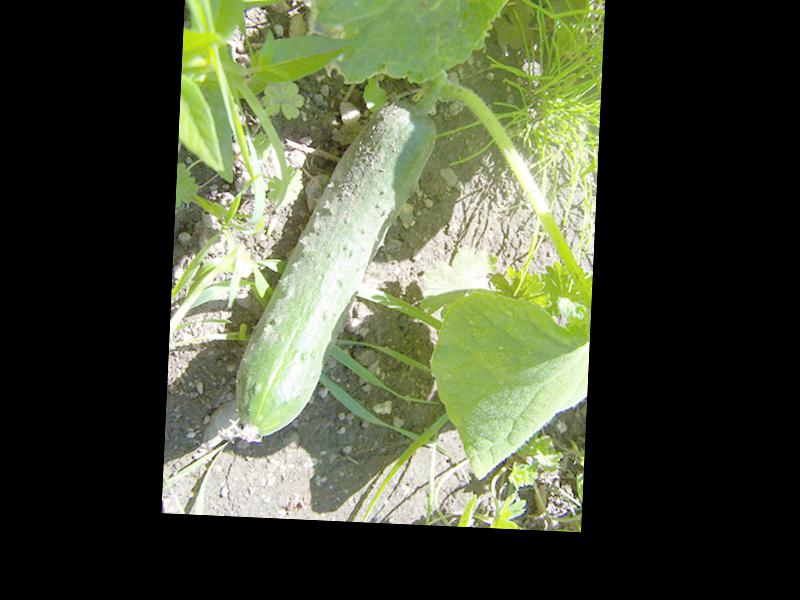Cucumber: (232, 91, 438, 448)
